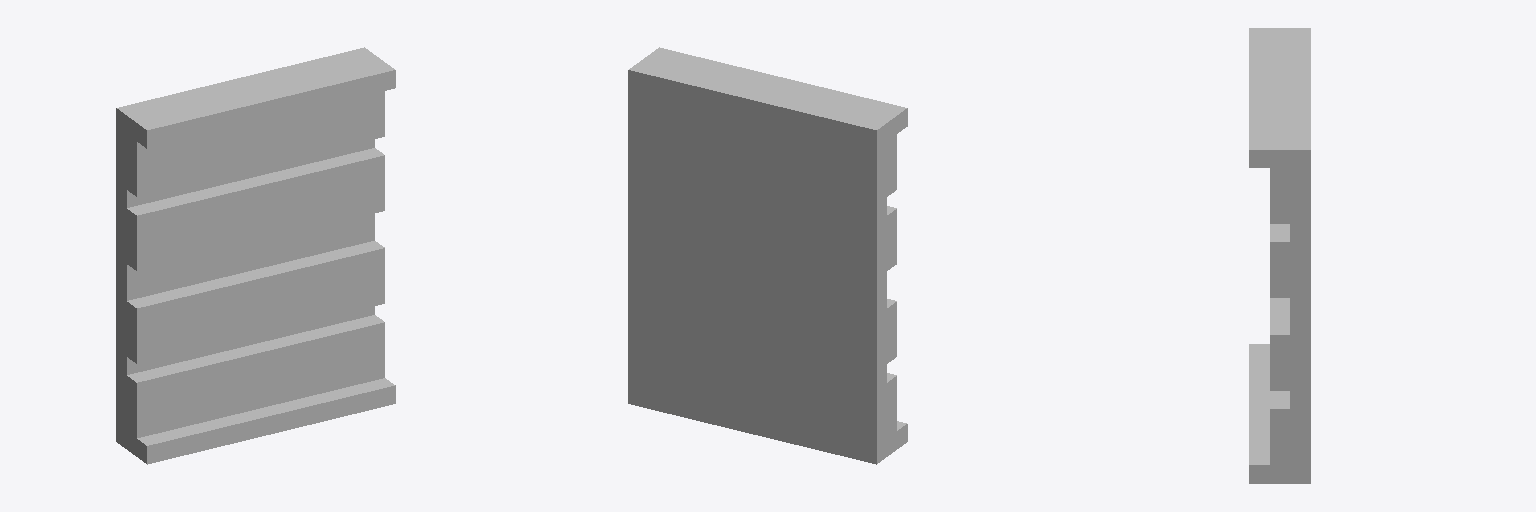
The model's file is caja 2 partida-10.obj.
3 renders of one model, left to right at view 1: azimuth 30°, elevation 25°; view 2: azimuth 150°, elevation 25°; view 3: azimuth 270°, elevation 25°, orthographic.
Parts seen in each view (by area): view 1: object 1; view 2: object 1; view 3: object 1.
Boxes of the visible parts, <box> form: object 1: <box>116,47,395,464</box>; object 1: <box>628,47,907,464</box>; object 1: <box>1249,28,1310,483</box>.
Bounding box in the file's own units: 1.4 × 1.8 × 0.3.